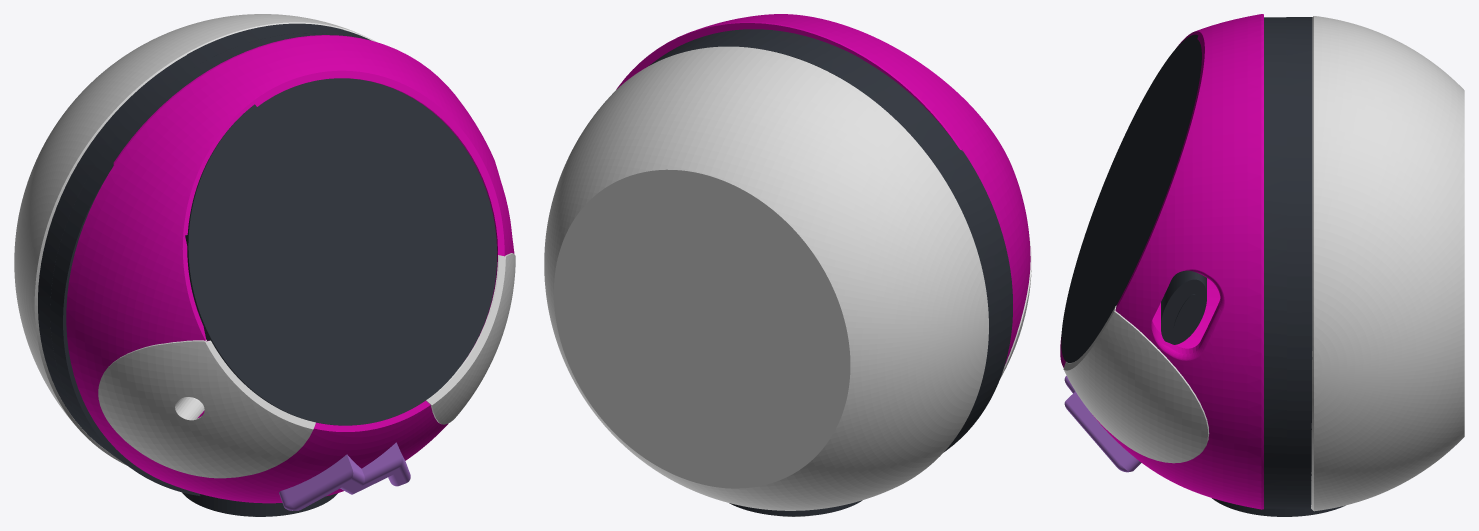
Rendered from poketama-master-screen.glb.
The picture shows the model from 3 angles, left to right: view 1: azimuth 30°, elevation 25°; view 2: azimuth 150°, elevation 25°; view 3: azimuth 270°, elevation 25°; orthographic projection.
Bounding box in the file's own units: 1.93 × 2 × 1.56.
